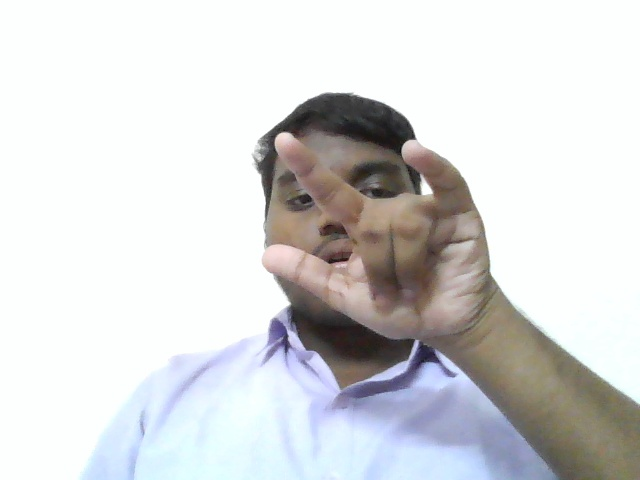I love you: (258, 122, 504, 349)
